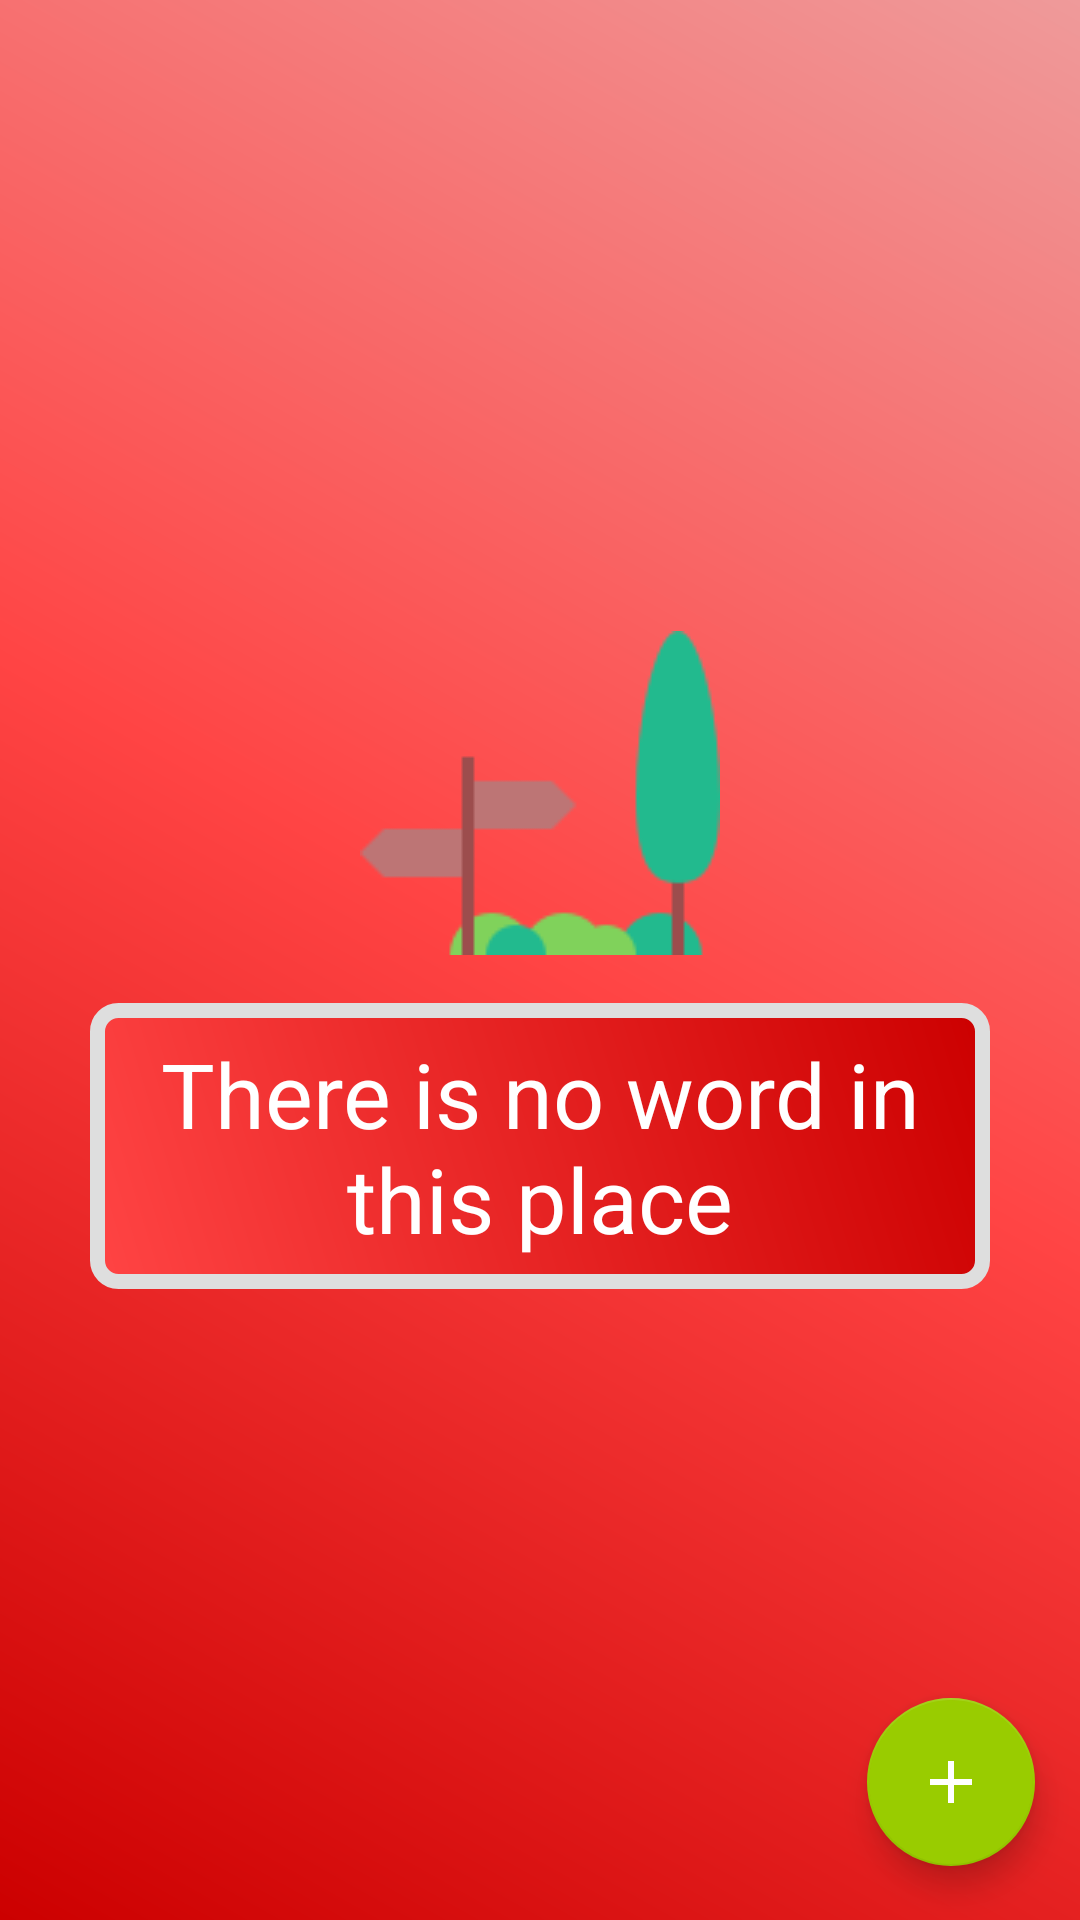

Named icons in this screenshot (1080px×1920px) and their bounding boxes, box(x1, y1, x2, y2):
add: box(867, 1698, 1035, 1866)
directions: box(360, 631, 720, 955)
